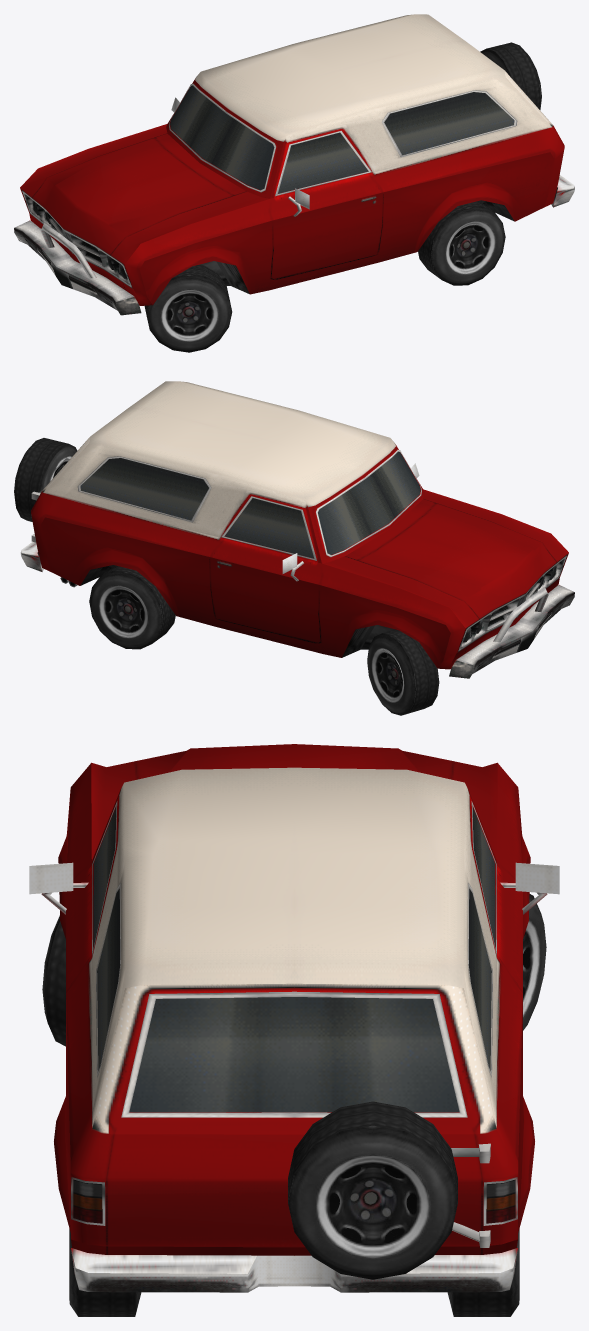
The model's file is stallion_70_-_retro_styled_model.glb.
The picture shows the model from 3 angles, top to bottom: view 1: azimuth 30°, elevation 25°; view 2: azimuth 150°, elevation 25°; view 3: azimuth 270°, elevation 25°; orthographic projection. The views are drawn at different scales.
Visible parts, largest first — view 1: body_trf_suv_old_1_0, Object002_UCB_Glass_256_0, Object010_Sport454_0, Object008_Sport454_0, Object004_trf_suv_old_1_0, Object007_Sport454_0, Object011_gt1_Bottom_0, Object003_trf_suv_old_1_0; view 2: body_trf_suv_old_1_0, Object002_UCB_Glass_256_0, Object009_Sport454_0, Sport454_Sport454_0, Object004_trf_suv_old_1_0, Object007_Sport454_0, Object011_gt1_Bottom_0, Object003_trf_suv_old_1_0; view 3: body_trf_suv_old_1_0, Object002_UCB_Glass_256_0, Object007_Sport454_0, Object003_trf_suv_old_1_0, Object001_gt1_headlights_3_0, Object010_Sport454_0, Sport454_Sport454_0, Object008_Sport454_0, Object009_Sport454_0, Object006_trf_suv_old_1_0.
Boxes of the visible parts, x1,y1,x2,y2 form: body_trf_suv_old_1_0: (20,14,564,305); Object002_UCB_Glass_256_0: (170,85,514,193); Object010_Sport454_0: (144,264,232,352); Object008_Sport454_0: (418,201,505,285); Object004_trf_suv_old_1_0: (14,220,141,315); Object007_Sport454_0: (480,42,541,109); Object011_gt1_Bottom_0: (201,200,514,294); Object003_trf_suv_old_1_0: (551,175,574,207); body_trf_suv_old_1_0: (31,381,568,669); Object002_UCB_Glass_256_0: (80,451,420,558); Object009_Sport454_0: (89,565,175,649); Sport454_Sport454_0: (367,629,439,715); Object004_trf_suv_old_1_0: (449,585,574,678); Object007_Sport454_0: (14,438,77,521); Object011_gt1_Bottom_0: (80,565,394,657); Object003_trf_suv_old_1_0: (20,542,43,571); body_trf_suv_old_1_0: (29,744,559,1255); Object002_UCB_Glass_256_0: (93,807,495,1112); Object007_Sport454_0: (288,1101,457,1279); Object003_trf_suv_old_1_0: (71,1248,517,1292); Object001_gt1_headlights_3_0: (73,1179,515,1223); Object010_Sport454_0: (42,915,65,1046); Sport454_Sport454_0: (523,894,546,1030); Object008_Sport454_0: (69,1229,141,1316); Object009_Sport454_0: (447,1229,519,1316); Object006_trf_suv_old_1_0: (451,1143,490,1247).
Bounding box in the file's own units: 4.55 × 1.73 × 2.17.
Materials: 7 (7 with a texture image).
